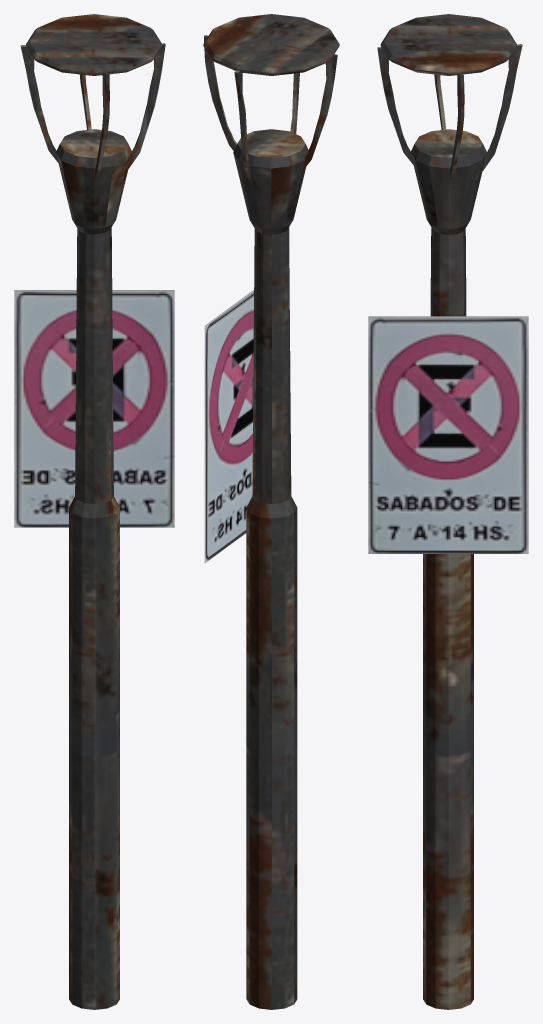
The model's file is farolLuz_moderno_Con_CARTEL.fbx.
3 views of the same model, side by side, from view 1: azimuth 90°, elevation 25°; view 2: azimuth 150°, elevation 25°; view 3: azimuth 270°, elevation 25° (orthographic).
Visible parts, largest first — view 1: Farol_Plaza_Cartel!, Plane; view 2: Farol_Plaza_Cartel!, Plane; view 3: Farol_Plaza_Cartel!, Plane.
Part boxes in pixels (x1=…): Farol_Plaza_Cartel!: x1=20, y1=14, x2=165, y2=1009; Plane: x1=14, y1=290, x2=174, y2=527; Farol_Plaza_Cartel!: x1=203, y1=14, x2=339, y2=1009; Plane: x1=204, y1=290, x2=253, y2=563; Farol_Plaza_Cartel!: x1=377, y1=14, x2=522, y2=1009; Plane: x1=368, y1=316, x2=528, y2=553.
Size of the model in its own units: 139 by 1054 by 160.
